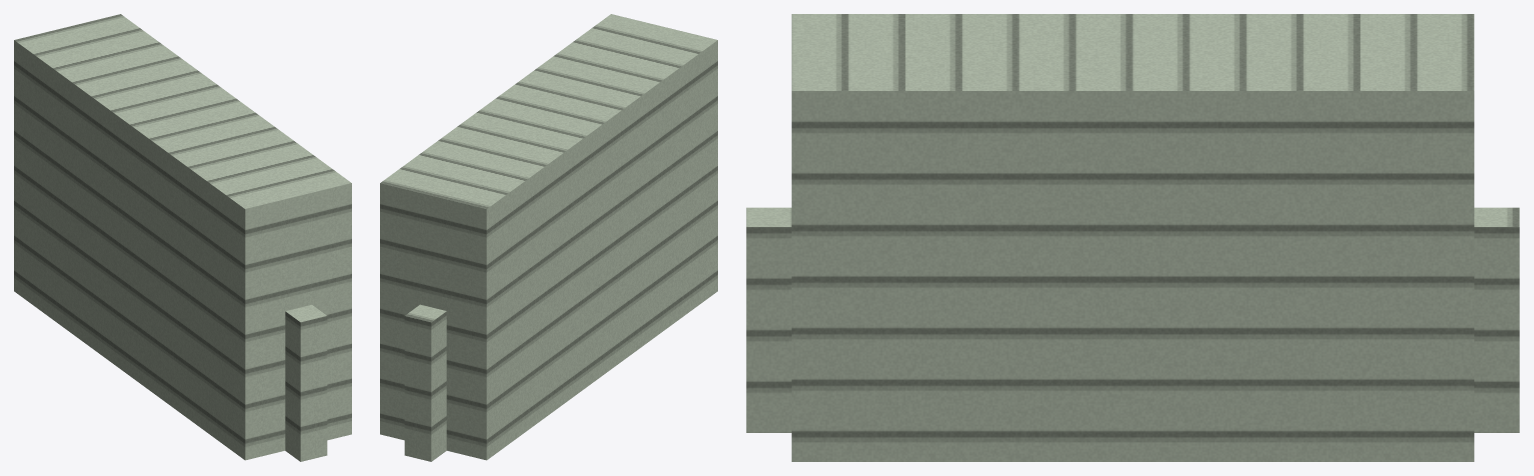
Rendered from vehicle_bicycle.glb.
The picture shows the model from 3 angles, left to right: view 1: azimuth 30°, elevation 25°; view 2: azimuth 150°, elevation 25°; view 3: azimuth 270°, elevation 25°; orthographic projection. The views are drawn at different scales.
Visible parts, largest first — view 1: vehicle_bicycle-col; view 2: vehicle_bicycle-col; view 3: vehicle_bicycle-col.
Part boxes in pixels (box(x1,y1,x2,y2)): vehicle_bicycle-col: box(14, 14, 351, 461); vehicle_bicycle-col: box(380, 14, 717, 461); vehicle_bicycle-col: box(746, 14, 1519, 461).
Bounding box in the file's own units: 0.4 × 0.9 × 1.7.
Materials: 1 (1 with a texture image).
